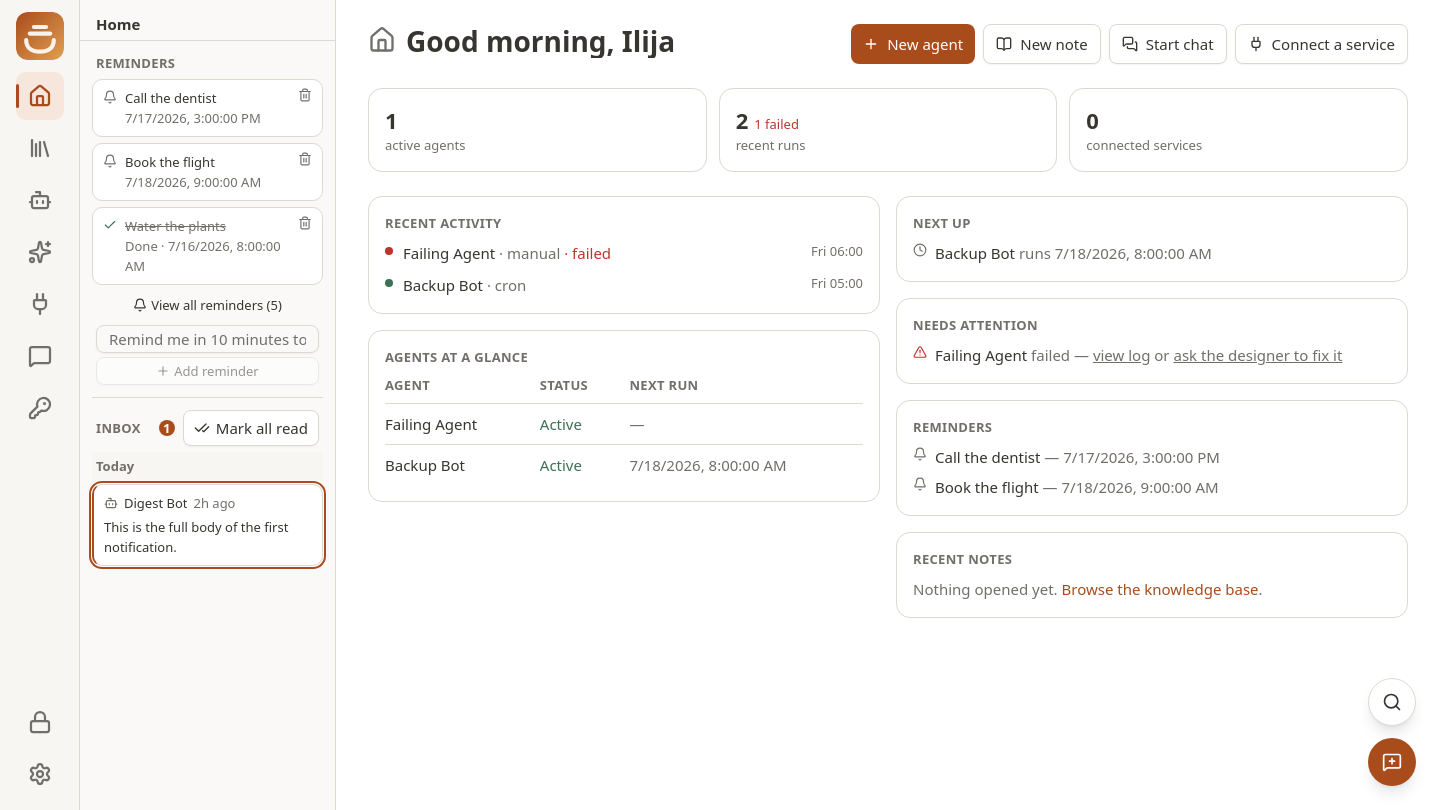
Test: reminders: deleting from the pane also clears the main-screen card
The image size is (1440, 810).
Check: the text "Call the dentist" below "Home" is shown, box top-left (125, 89), bottom-right (216, 107)
Click the 1st button named "delete reminder" at (305, 95), box top-left (298, 88), bottom-right (312, 102)
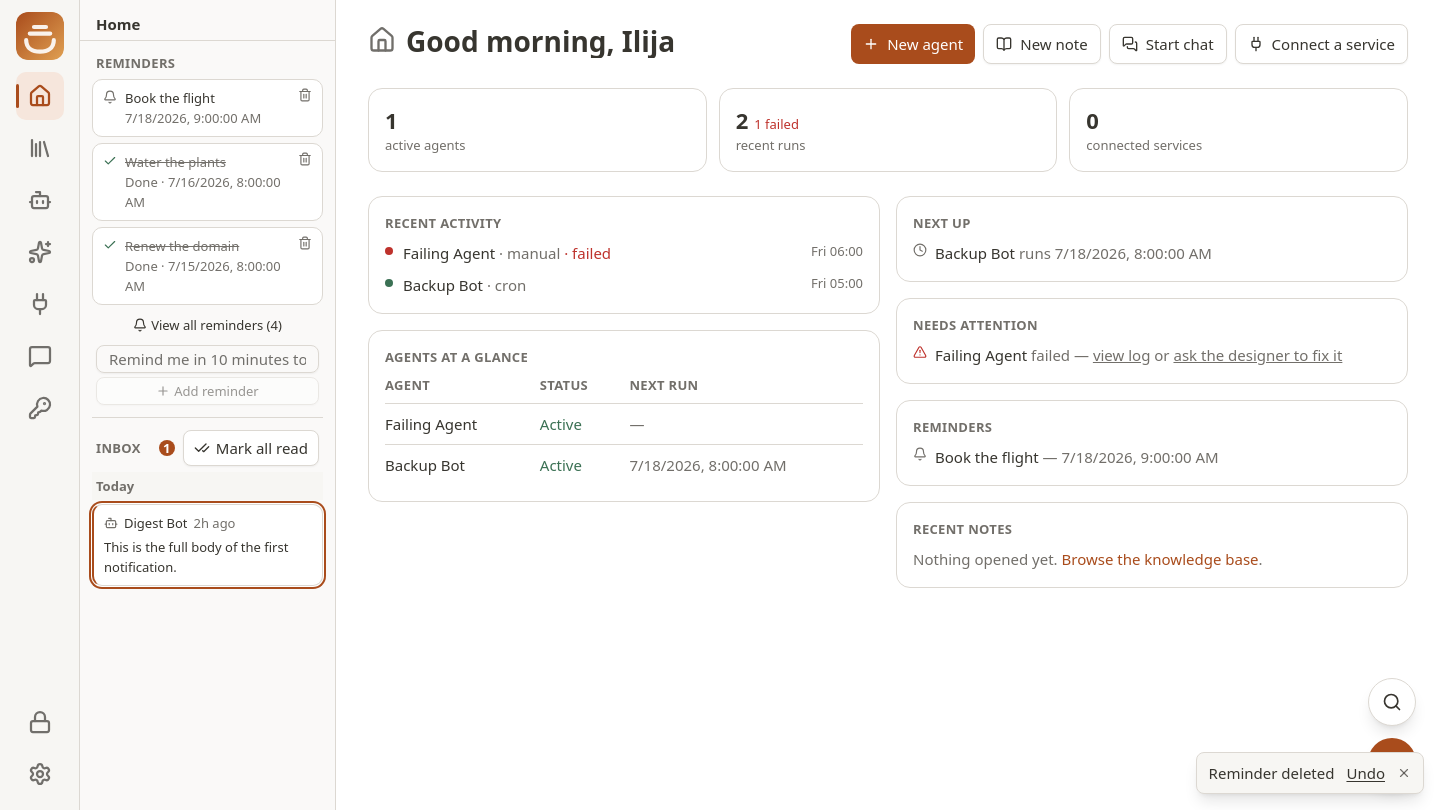
Check: the text "Call the dentist" is gone
